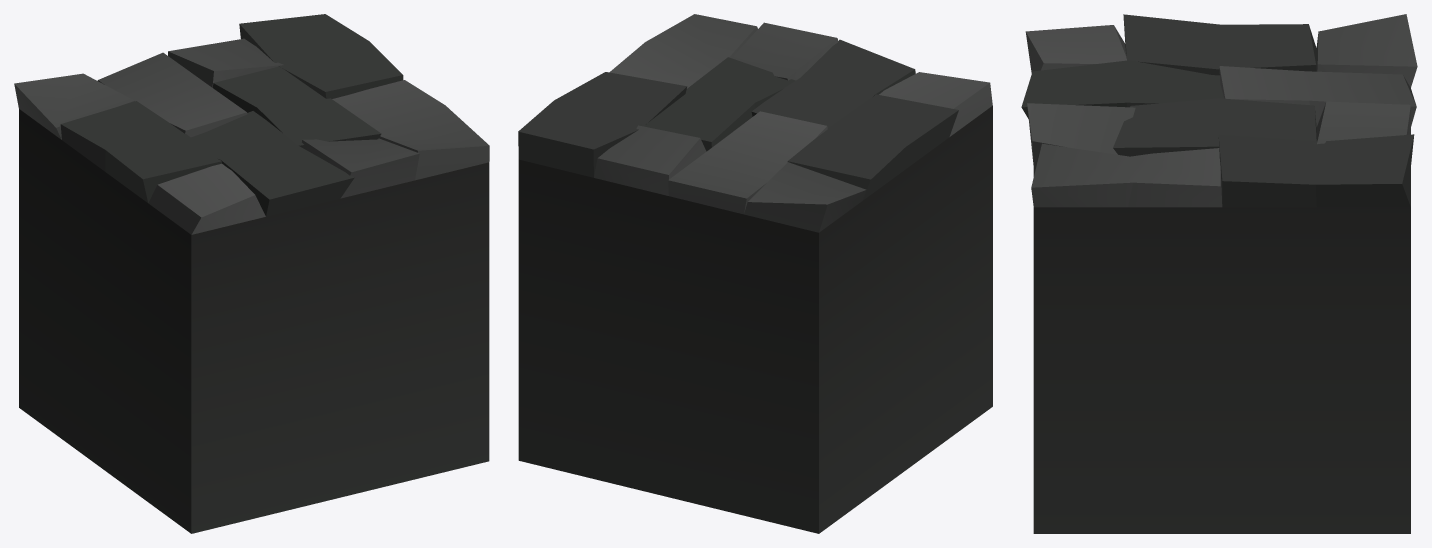
File: cobblestonefloor.fbx
3 renders of one model, left to right at view 1: azimuth 30°, elevation 25°; view 2: azimuth 150°, elevation 25°; view 3: azimuth 270°, elevation 25°, orthographic. The views are drawn at different scales.
Visible parts, largest first — view 1: cobblestoneground_LOD0; view 2: cobblestoneground_LOD0; view 3: cobblestoneground_LOD0.
Part boxes in pixels (bbox=[...]): cobblestoneground_LOD0: bbox=[14, 14, 489, 533]; cobblestoneground_LOD0: bbox=[518, 14, 992, 533]; cobblestoneground_LOD0: bbox=[1021, 14, 1417, 533].
Size of what is drawn, in the model's own units: 2 by 2 by 2.
